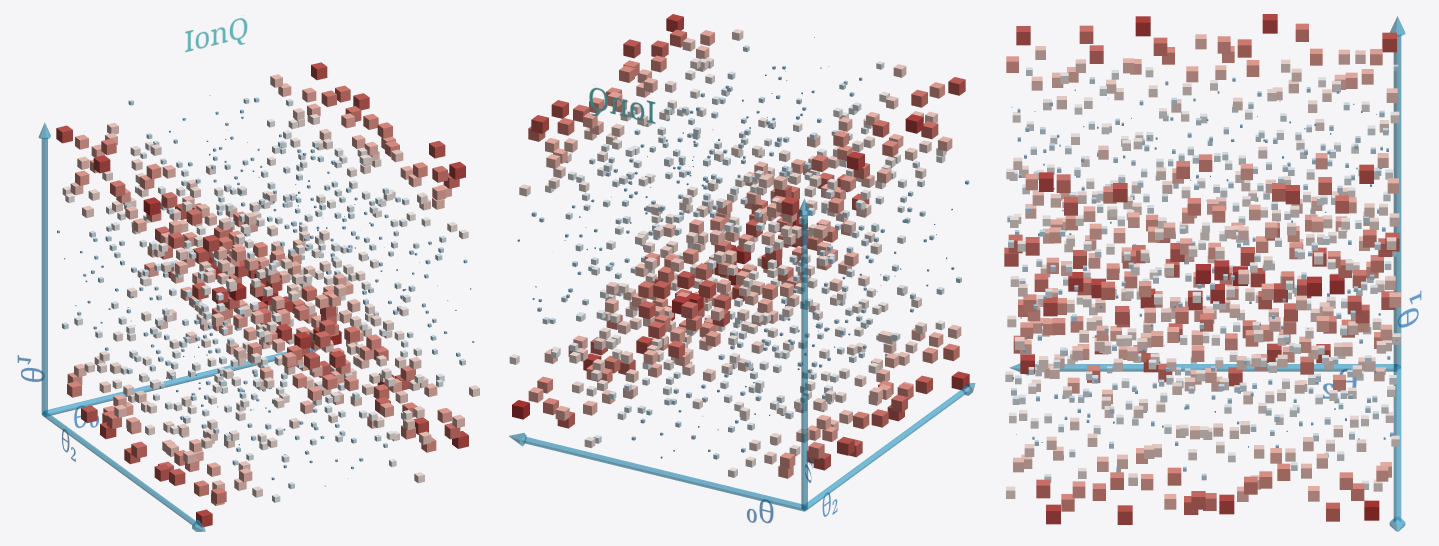
Rendered from quantum-ionq.glb.
3 views of the same model, side by side, from view 1: azimuth 30°, elevation 25°; view 2: azimuth 150°, elevation 25°; view 3: azimuth 270°, elevation 25° (orthographic). The views are drawn at different scales.
Parts seen in each view (by area): view 1: y axis, z axis, x axis, IonQ; view 2: x axis, y axis, z axis, IonQ; view 3: y axis, z axis, x axis.
Boxes of the visible parts, x1,y1,x2,y2 form: y axis: [38, 123, 50, 414]; z axis: [42, 411, 205, 531]; x axis: [44, 348, 317, 416]; IonQ: [185, 18, 247, 51]; x axis: [509, 433, 804, 511]; y axis: [798, 199, 810, 509]; z axis: [803, 383, 975, 511]; IonQ: [589, 88, 655, 123]; y axis: [1390, 16, 1405, 368]; z axis: [1009, 363, 1397, 375]; x axis: [1389, 365, 1405, 531].
Bounding box in the file's own units: 1.09 × 1.3 × 1.08.
Materials: 100 (4 with a texture image).
